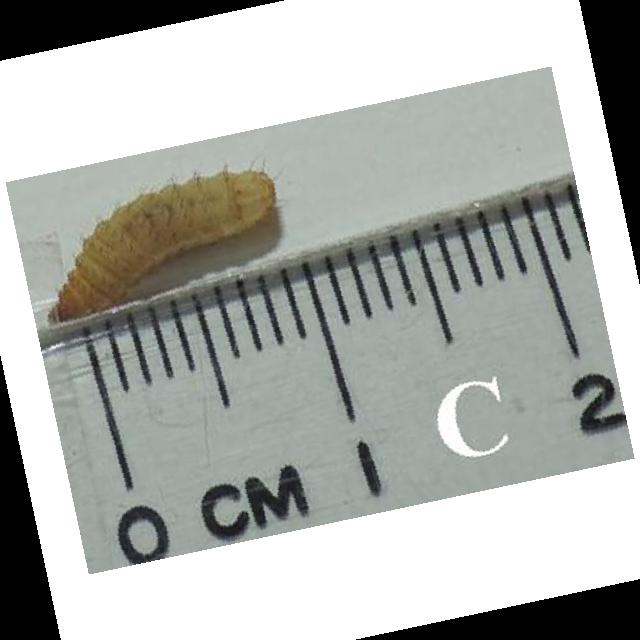Maggot: (49, 166, 280, 331)
